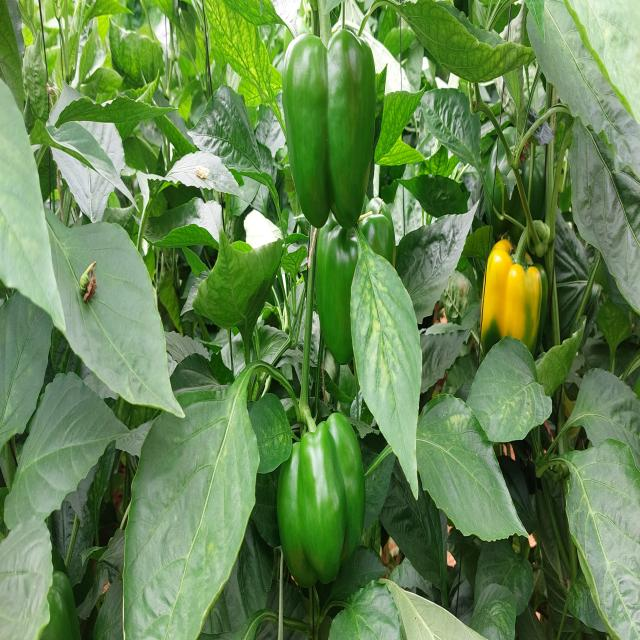Green--Not-ready-to-harvest: (267, 416, 377, 596), (281, 28, 376, 236), (318, 207, 393, 384), (478, 220, 547, 394)
